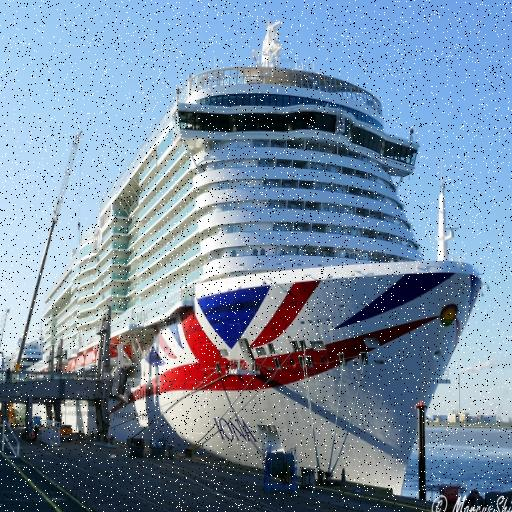cruises: (33, 18, 489, 510)
